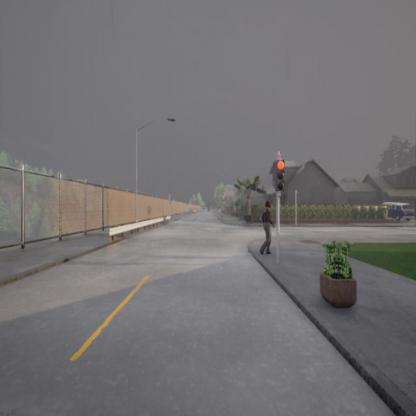person: (259, 201, 274, 257)
traffic_light_red: (274, 160, 284, 191)
